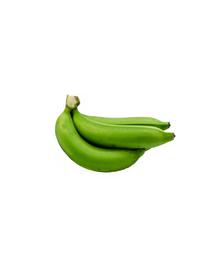banana: (54, 95, 175, 172)
